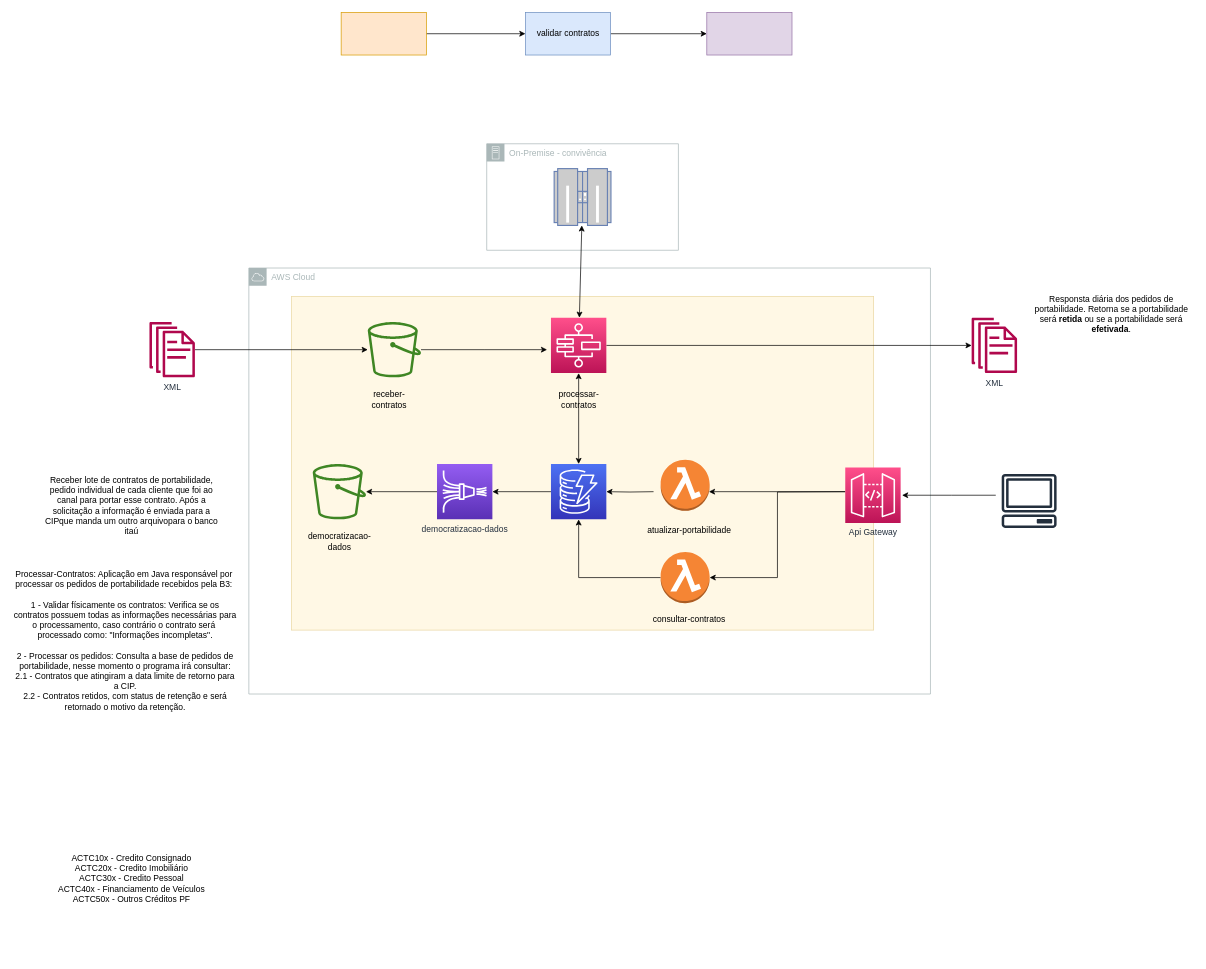
Some shapes in this 1206 by 969 pixel diagram are drawn without their labels. Here are the shapes that lost their labels. From the top down, the centre of each, then its label:
[383,33]: receber contratos
[749,33]: responder portabilidade
[1028,501]: Aplicação Cliente
